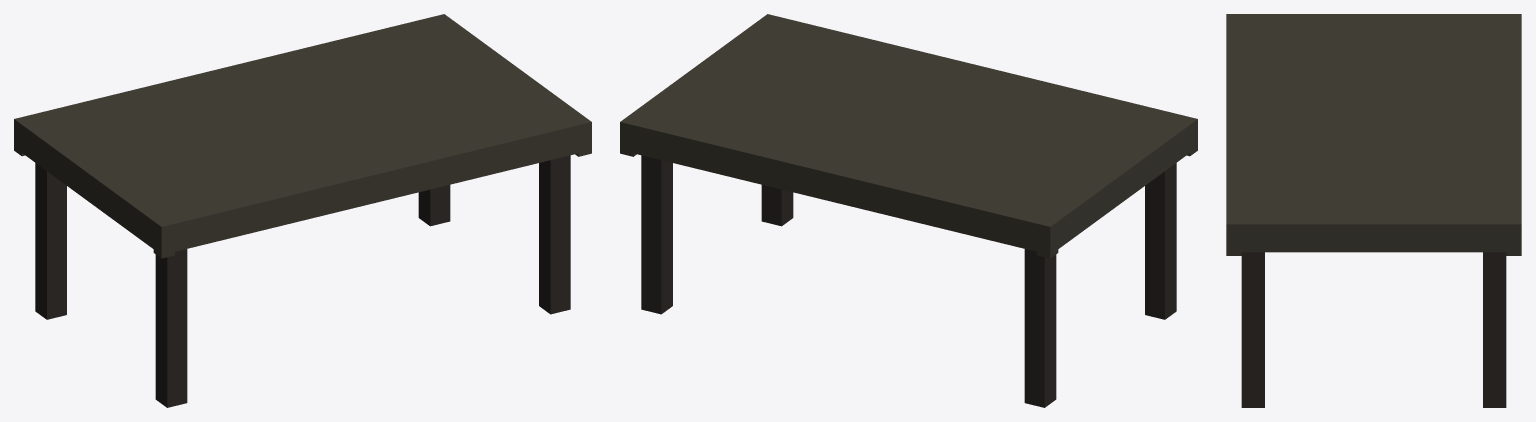
Rendered from Dining Table.gltf.
3 renders of one model, left to right at view 1: azimuth 30°, elevation 25°; view 2: azimuth 150°, elevation 25°; view 3: azimuth 270°, elevation 25°, orthographic.
Parts seen in each view (by area): view 1: cube (×5); view 2: cube (×5); view 3: cube (×3).
Boxes of the visible parts, x1,y1,x2,y2 form: cube (×5): (14,14,591,407); cube (×5): (620,14,1197,407); cube (×3): (1226,14,1521,407).
Size of the model in its own units: 4 by 1.69 by 2.38.
Materials: 1 (1 with a texture image).
